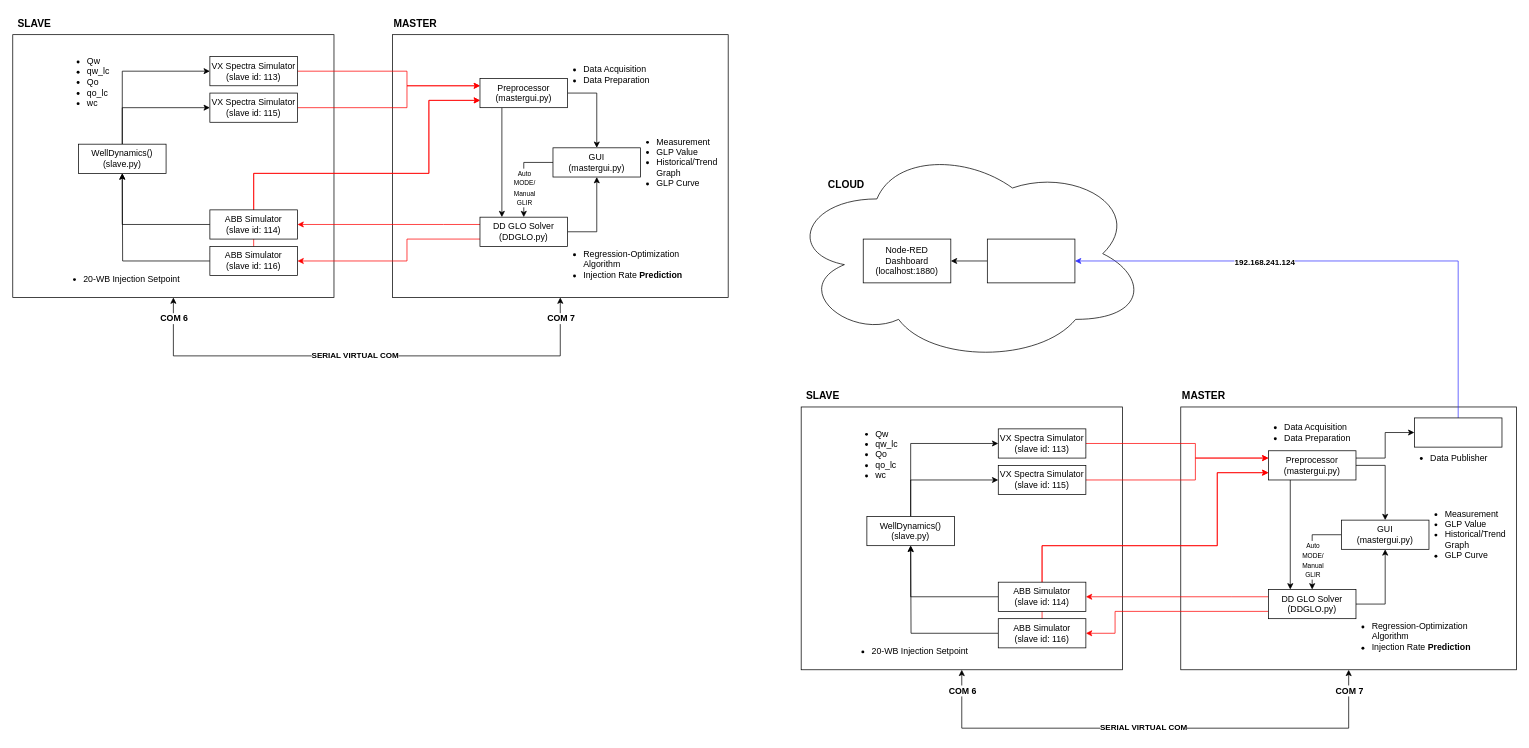
Some shapes in this 1529 by 748 pixel diagram are drawn without their labels. Each missing label, with the centre of its shape:
"MQTT Broker Subscriber (broker.hivemq.com)" belongs at pixel 1031 260.
"MQTT Publisher (JSON datatype)" belongs at pixel 1458 432.
